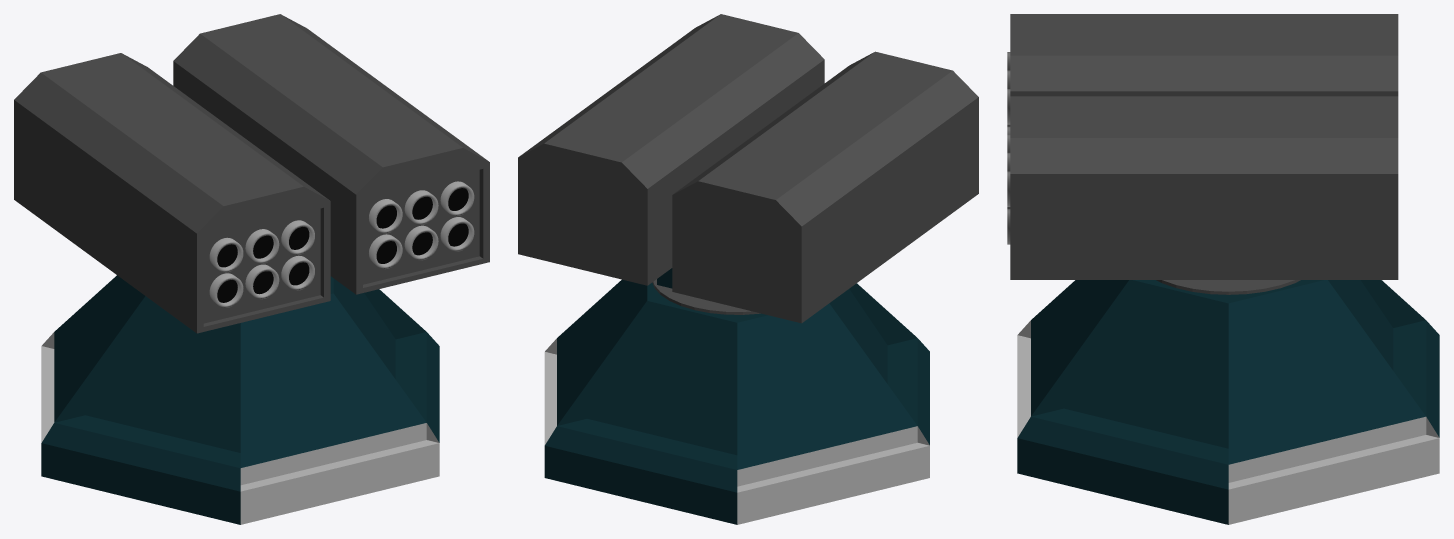
Rendered from MissileTowerAfterApplyArray.fbx.
3 renders of one model, left to right at view 1: azimuth 30°, elevation 25°; view 2: azimuth 150°, elevation 25°; view 3: azimuth 270°, elevation 25°, orthographic. The views are drawn at different scales.
Parts seen in each view (by area): view 1: Cube.001, Cylinder.003; view 2: Cube.001, Cylinder.003; view 3: Cube.001, Cylinder.003.
Part boxes in pixels (x1,y1,x2,y2): Cube.001: (14, 14, 489, 333); Cylinder.003: (41, 275, 439, 524); Cube.001: (518, 14, 978, 323); Cylinder.003: (544, 279, 929, 524); Cube.001: (1007, 14, 1398, 294); Cylinder.003: (1017, 280, 1439, 524).
Size of the model in its own units: 200 by 157 by 177.
